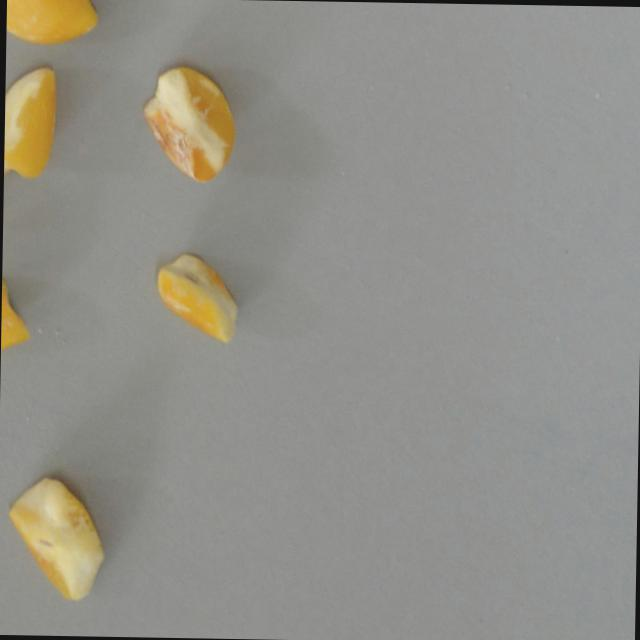dañado: (139, 62, 235, 187)
estandar: (5, 0, 102, 46), (0, 274, 31, 364)
punto_negro: (4, 473, 109, 603), (153, 250, 240, 346), (2, 62, 61, 186)
